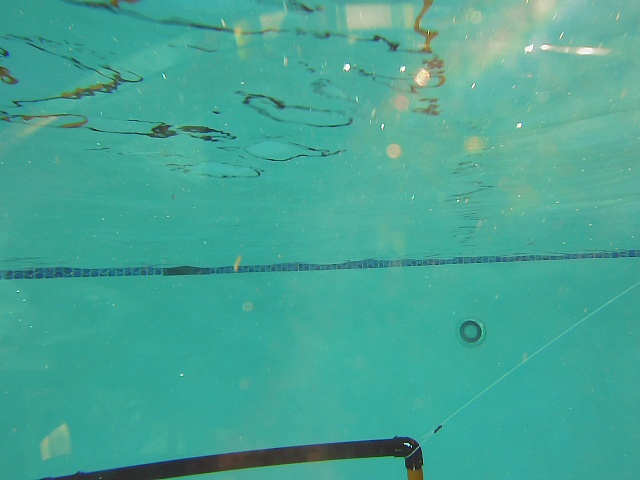Gate: (398, 462, 430, 480)
